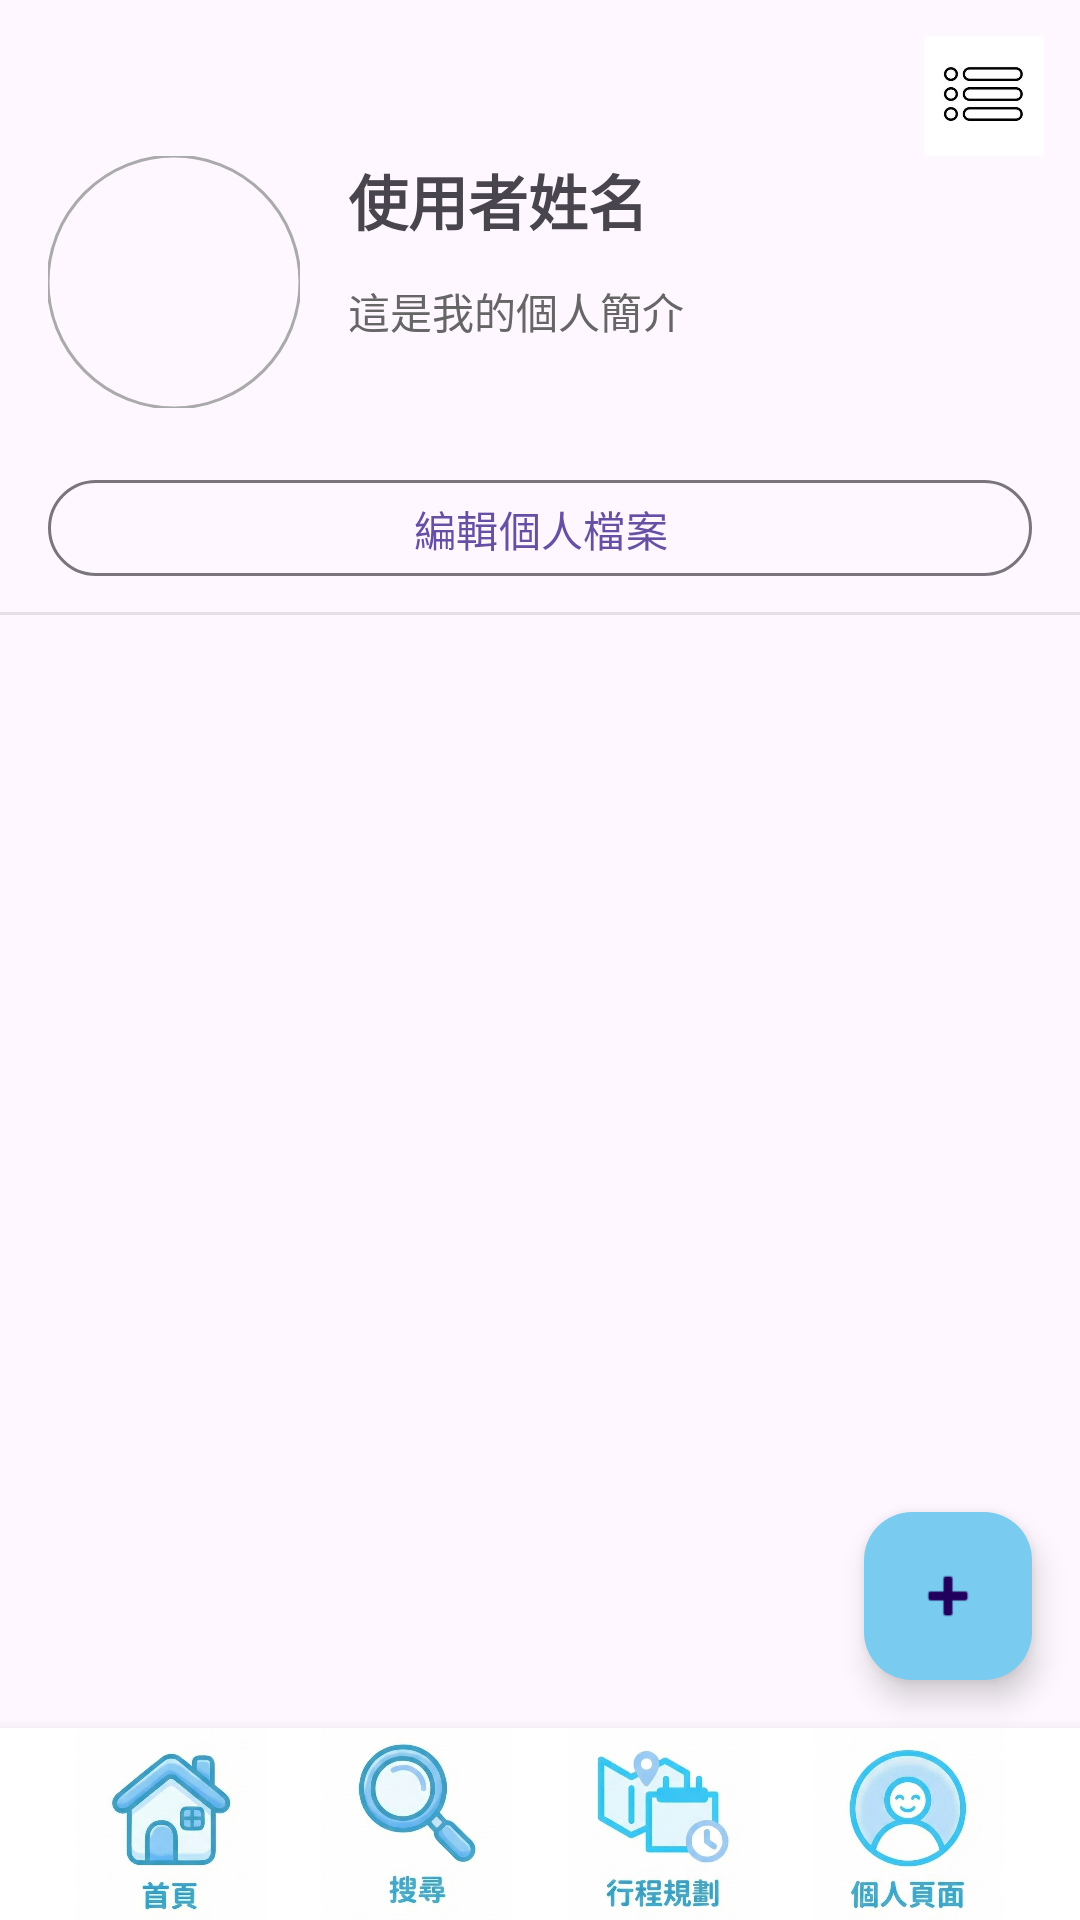

Where icons sit on this 1080 × 1920 app screen, as detection(x1, y1, x2, y2):
新增: detection(864, 1512, 1032, 1680)
清單: detection(944, 67, 1023, 121)
